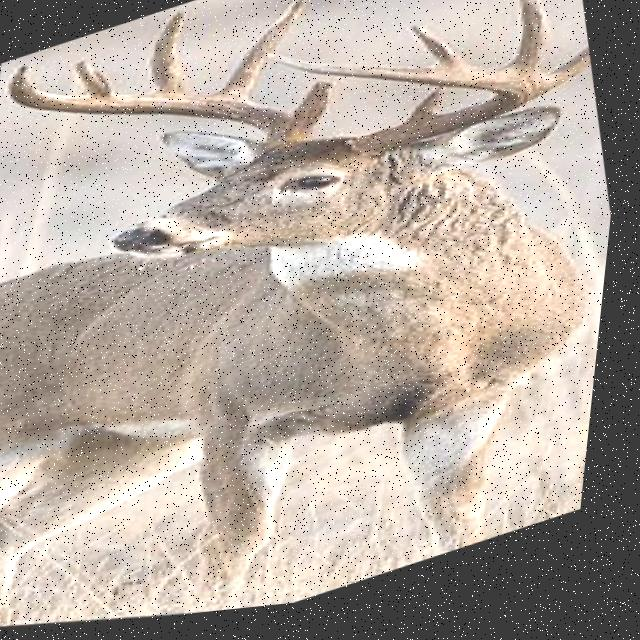L-F: (267, 59, 561, 163)
L-G1: (407, 97, 447, 132)
L-G2: (550, 58, 593, 97)
L-G3: (505, 0, 552, 83)
L-G4: (407, 34, 468, 75)
R-F: (9, 65, 319, 152)
R-G1: (294, 87, 337, 134)
R-G2: (219, 0, 310, 105)
R-G3: (149, 13, 188, 97)
R-G4: (73, 61, 117, 98)
